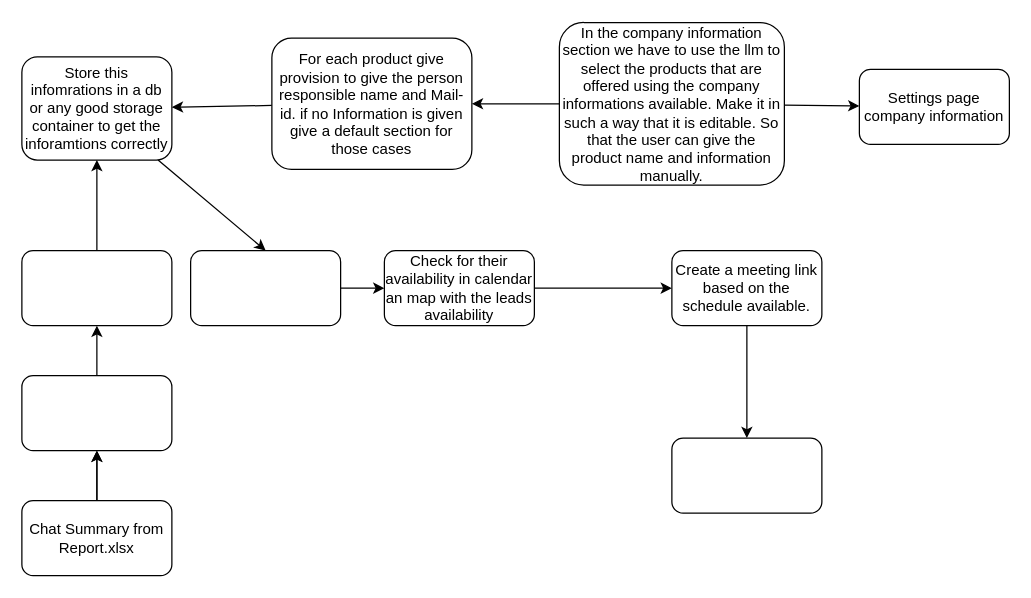
Some shapes in this 1031 by 598 pixel diagram are drawn without their labels. The box of each missing label's shape, as (x1, y1, x2, y2) in pixels:
Connect to the person who is responsible for that product: (189, 249, 341, 326)
Find the product they are interested: (21, 374, 172, 451)
Query DB: (21, 249, 172, 326)
Send the email with the meeting scheduled to the lead who connected: (671, 437, 822, 513)
